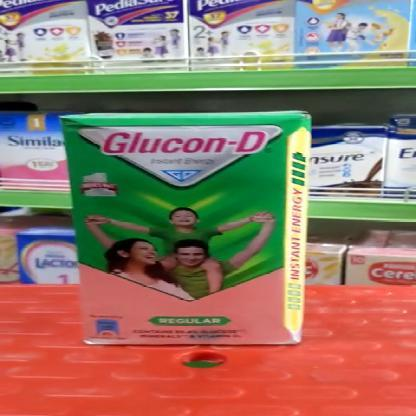Glucon D Regular 1-KG: (70, 115, 294, 347)
